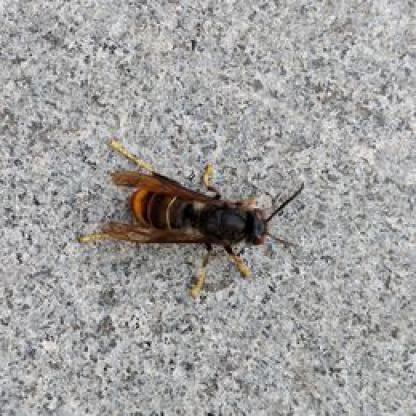Asian Hornet: (76, 134, 312, 299)
